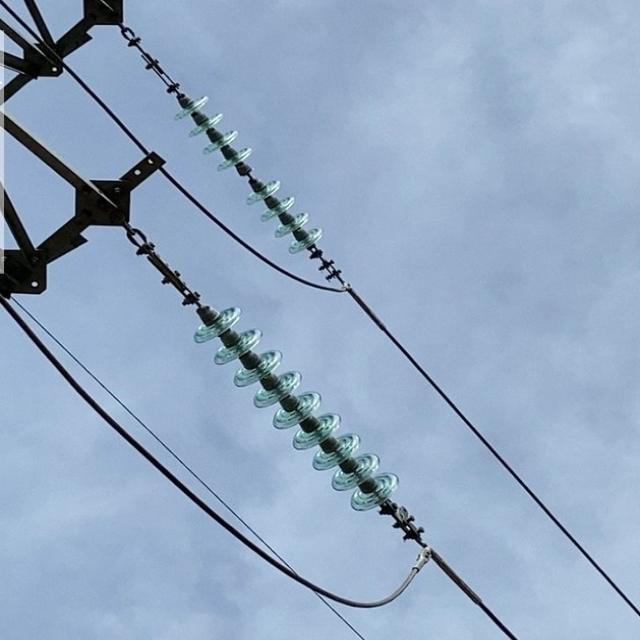正常绝缘子: (133, 234, 457, 561), (139, 44, 387, 318)
绝缘子破损: (151, 75, 197, 105), (385, 511, 424, 535), (152, 267, 192, 289), (316, 257, 348, 280), (177, 293, 210, 314), (236, 168, 265, 185)
